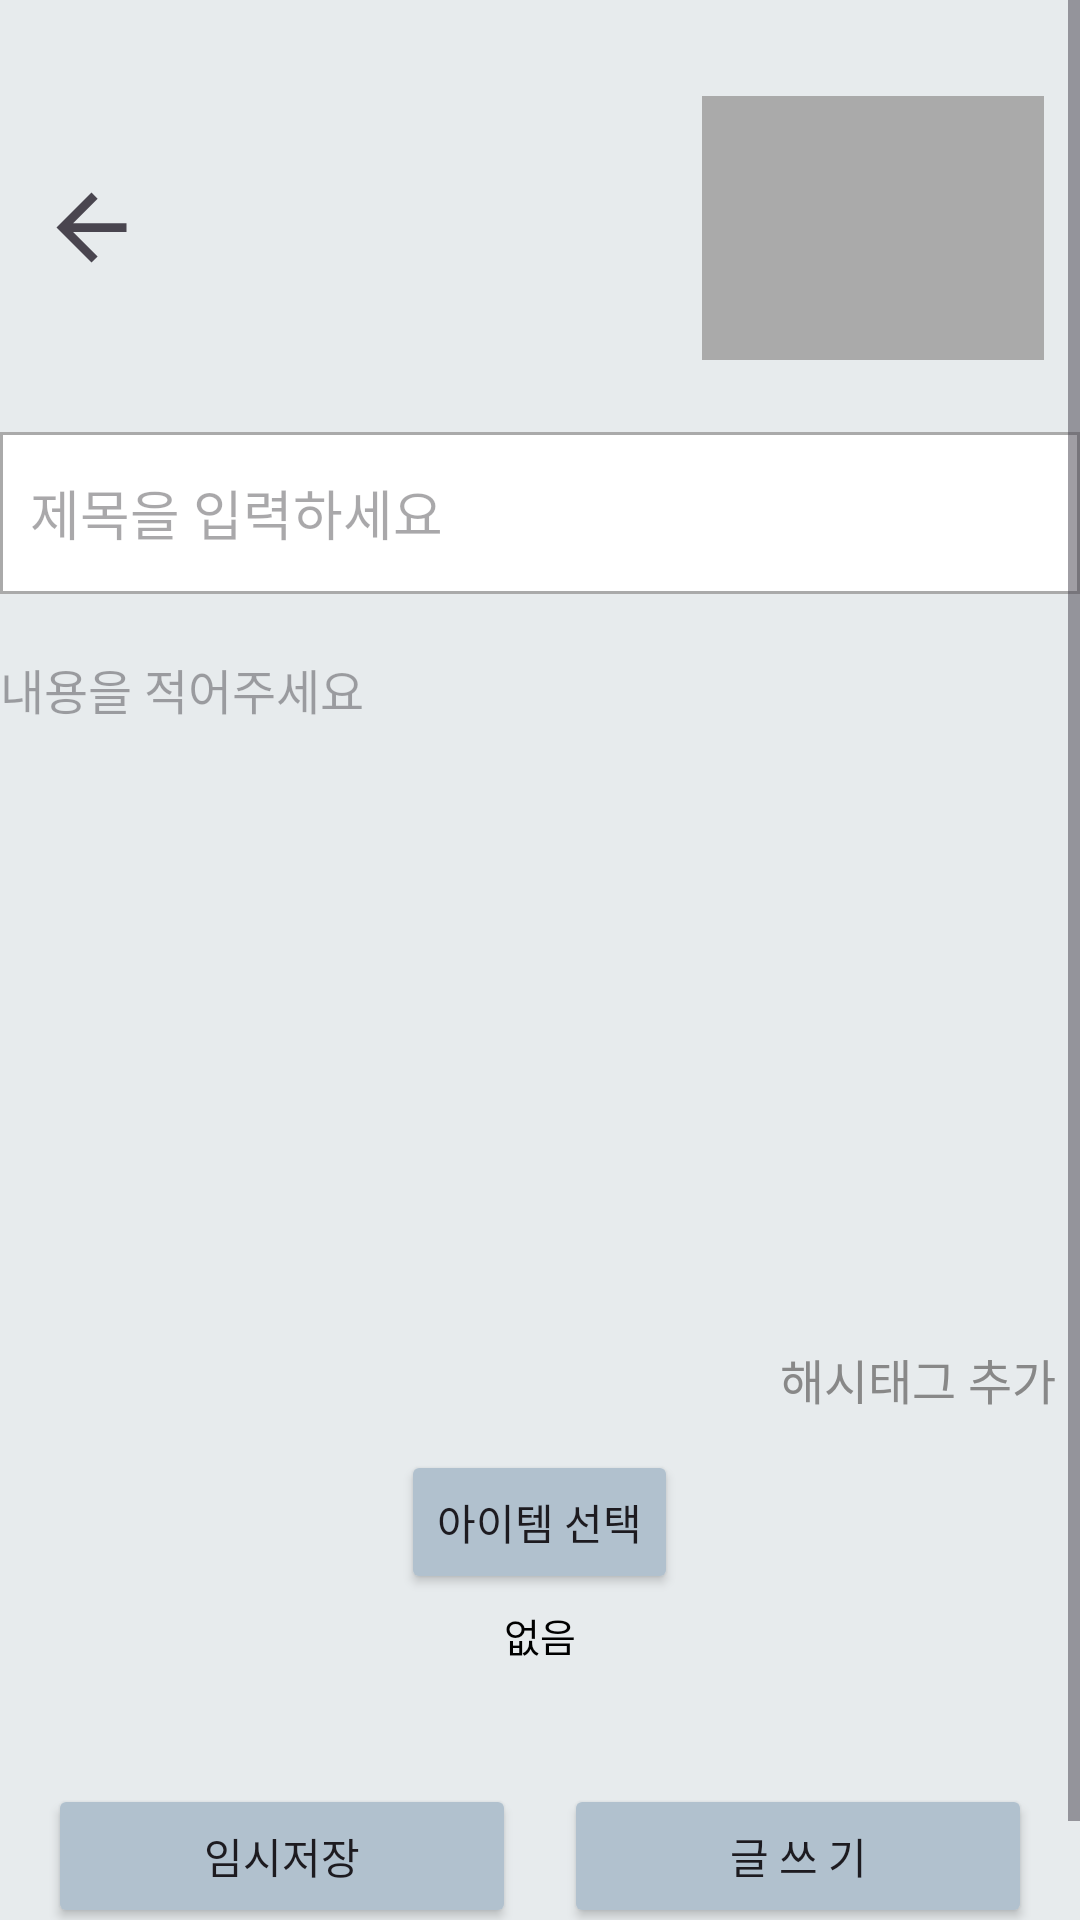

Named icons in this screenshot (1080px x 1920px) and their centers, (x,y):
뒤로가기: (91,227)
